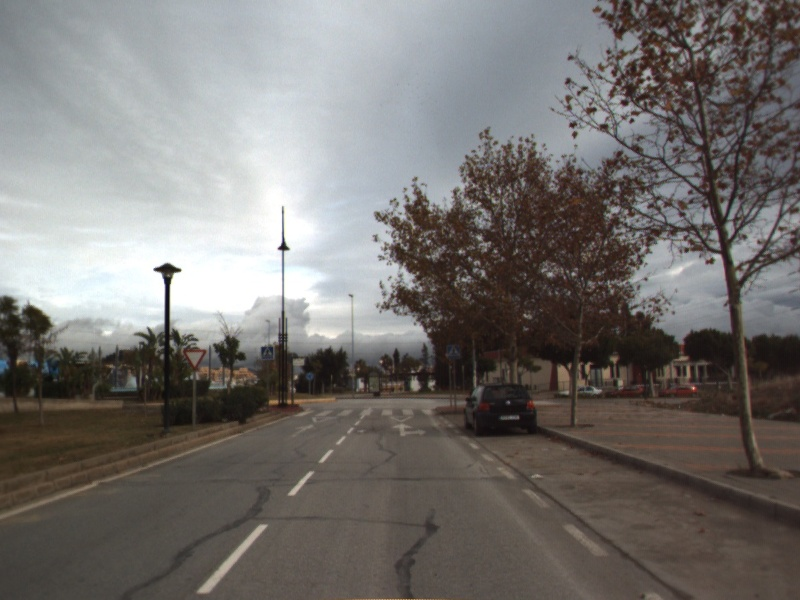STRAIGHT: (289, 422, 319, 439)
STRAIGHT_RIGHT: (391, 421, 429, 438)
